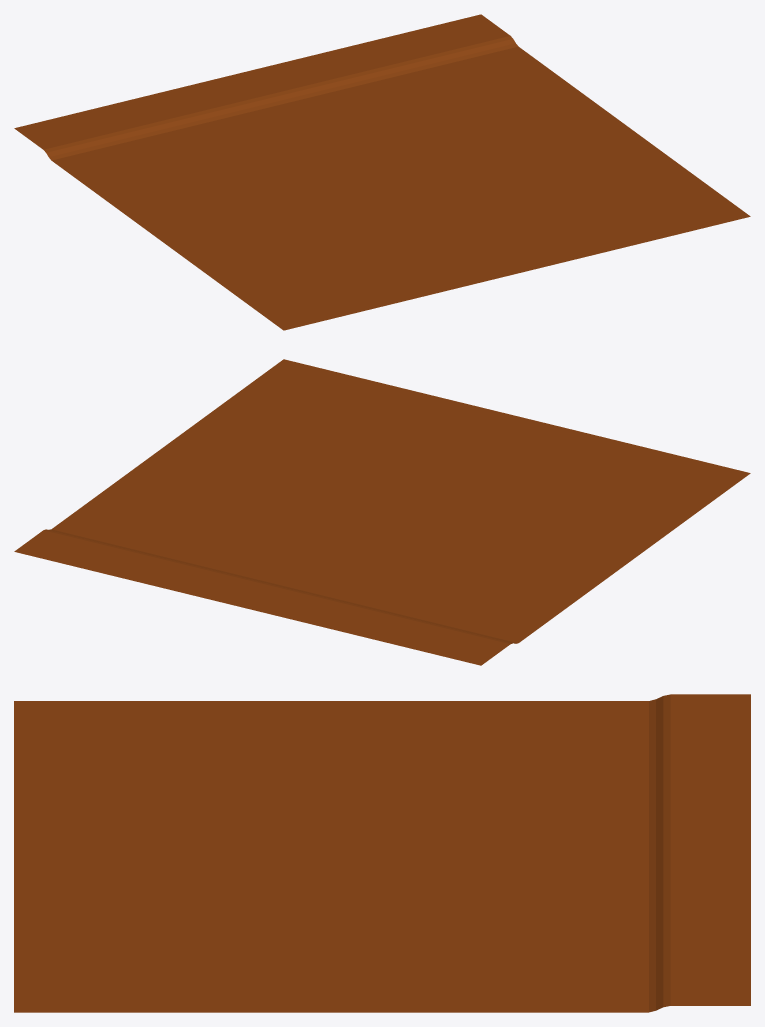
Rendered from Terrain_Part_Plane_18.glb.
3 views of the same model, one above another, from view 1: azimuth 30°, elevation 25°; view 2: azimuth 150°, elevation 25°; view 3: azimuth 270°, elevation 25° (orthographic). The views are drawn at different scales.
Parts seen in each view (by area): view 1: Terrain_Part_Plane_18.001; view 2: Terrain_Part_Plane_18.001; view 3: Terrain_Part_Plane_18.001.
Boxes of the visible parts, x1=… form: Terrain_Part_Plane_18.001: x1=14, y1=14, x2=750, y2=330; Terrain_Part_Plane_18.001: x1=14, y1=359, x2=750, y2=665; Terrain_Part_Plane_18.001: x1=14, y1=694, x2=750, y2=1012.
Size of the model in its own units: 20 by 0.2 by 20.
